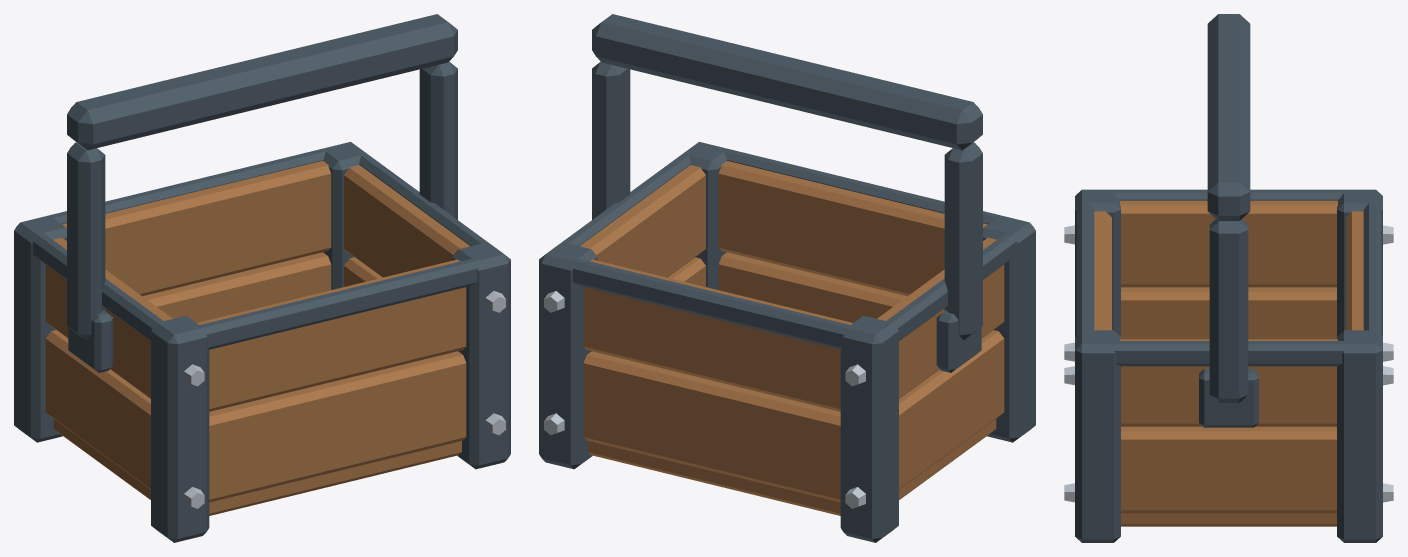
Rendered from Basket_Empty.fbx.
The picture shows the model from 3 angles, left to right: view 1: azimuth 30°, elevation 25°; view 2: azimuth 150°, elevation 25°; view 3: azimuth 270°, elevation 25°; orthographic projection. The views are drawn at different scales.
Visible parts, largest first — view 1: Wood, Frame, SteelLight; view 2: Wood, Frame, SteelLight; view 3: Wood, Frame, SteelLight.
Part boxes in pixels (x1=…): Wood: x1=45, y1=161, x2=469, y2=515; Frame: x1=14, y1=14, x2=510, y2=542; SteelLight: x1=184, y1=291, x2=505, y2=508; Wood: x1=580, y1=161, x2=1004, y2=515; Frame: x1=539, y1=14, x2=1035, y2=542; SteelLight: x1=544, y1=291, x2=865, y2=508; Wood: x1=1094, y1=200, x2=1363, y2=526; Frame: x1=1075, y1=14, x2=1382, y2=542; SteelLight: x1=1064, y1=225, x2=1393, y2=502.
Bounding box in the file's own units: 2.37 × 2.29 × 1.86.
